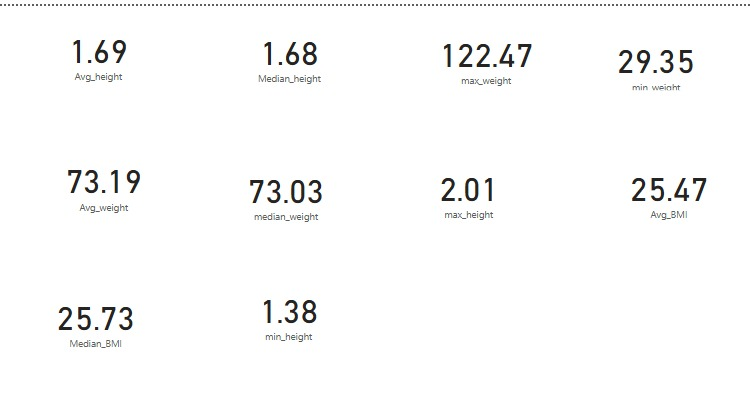

What the dashboard file says about the page in this screenshot:
{"tool":"powerbi","page":{"name":"Card Insights","canvas":[1280,720],"ordinal":0},"visuals":[{"type":"card","fields":{"Values":["weight-height-updated (1).Avg_height"]},"box":[0,18.5,330.9,122.6],"z":0},{"type":"card","fields":{"Values":["weight-height-updated (1).Avg_weight"]},"box":[0,235.2,349.4,124.3],"z":1000},{"type":"card","fields":{"Values":["weight-height-updated (1).Avg_BMI"]},"box":[954.1,253.6,325.9,112.5],"z":2000},{"type":"card","fields":{"Values":["weight-height-updated (1).Median_BMI"]},"box":[10.1,458.6,302.4,131],"z":3000},{"type":"card","fields":{"Values":["weight-height-updated (1).Median_height"]},"box":[312.4,18.5,344.4,127.7],"z":4000},{"type":"card","fields":{"Values":["weight-height-updated (1).median_weight"]},"box":[317.5,253.6,322.5,119.3],"z":5000},{"type":"card","fields":{"Values":["weight-height-updated (1).min_height"]},"box":[330.9,458.6,302.4,109.2],"z":6000},{"type":"card","fields":{"Values":["weight-height-updated (1).max_weight"]},"box":[656.8,31.9,310.8,109.2],"z":7000},{"type":"card","fields":{"Values":["weight-height-updated (1).min_weight"]},"box":[910.4,48.7,369.6,97.4],"z":8000},{"type":"card","fields":{"Values":["weight-height-updated (1).max_height"]},"box":[640,253.6,285.6,112.5],"z":9000}]}

Visuals, with their boxes on the page's 1280x720 design canvas (x1, y1, x2, y2). These are canvas units, not pixel positions in the 750x397 screenshot, which may show the page scaled, cropped or inside an application window:
card - weight-height-updated (1).Avg_height: bbox=[0, 18, 331, 141]
card - weight-height-updated (1).Avg_weight: bbox=[0, 235, 349, 360]
card - weight-height-updated (1).Avg_BMI: bbox=[954, 254, 1280, 366]
card - weight-height-updated (1).Median_BMI: bbox=[10, 459, 312, 590]
card - weight-height-updated (1).Median_height: bbox=[312, 18, 657, 146]
card - weight-height-updated (1).median_weight: bbox=[318, 254, 640, 373]
card - weight-height-updated (1).min_height: bbox=[331, 459, 633, 568]
card - weight-height-updated (1).max_weight: bbox=[657, 32, 968, 141]
card - weight-height-updated (1).min_weight: bbox=[910, 49, 1280, 146]
card - weight-height-updated (1).max_height: bbox=[640, 254, 926, 366]
